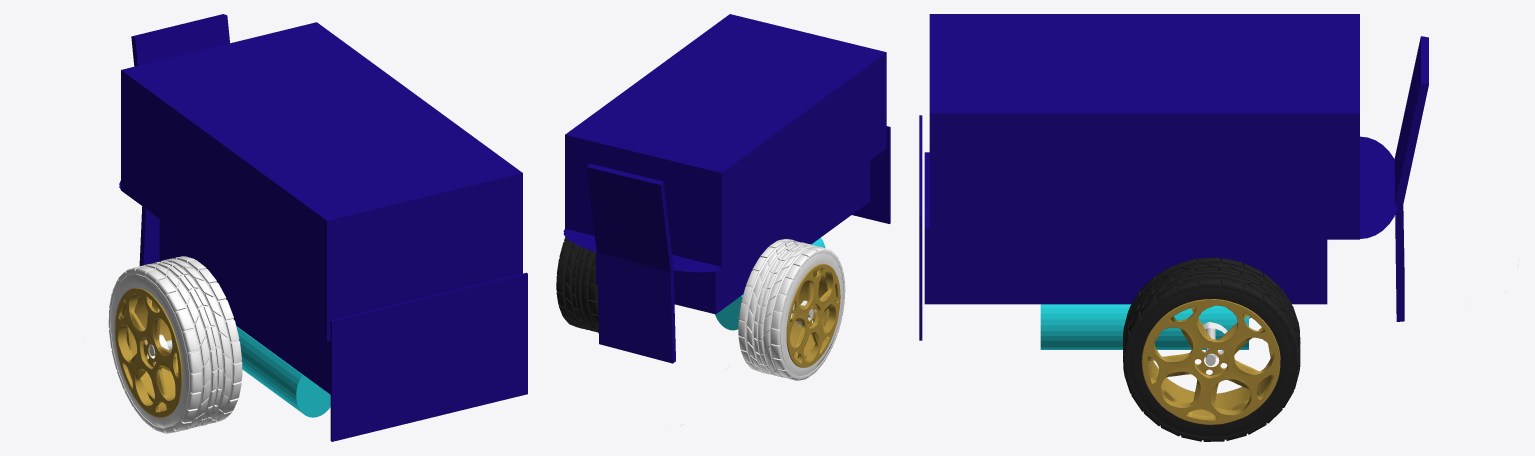
File: JoinedVehicleblend.glb
3 renders of one model, left to right at view 1: azimuth 30°, elevation 25°; view 2: azimuth 150°, elevation 25°; view 3: azimuth 270°, elevation 25°, orthographic. The views are drawn at different scales.
Parts seen in each view (by area): view 1: Cube; view 2: Cube; view 3: Cube.
Part boxes in pixels (bbox=[...]): Cube: bbox=[14, 14, 527, 441]; Cube: bbox=[556, 14, 890, 426]; Cube: bbox=[919, 14, 1505, 441].
Bounding box in the file's own units: 0.1226 × 0.1228 × 0.2165.
